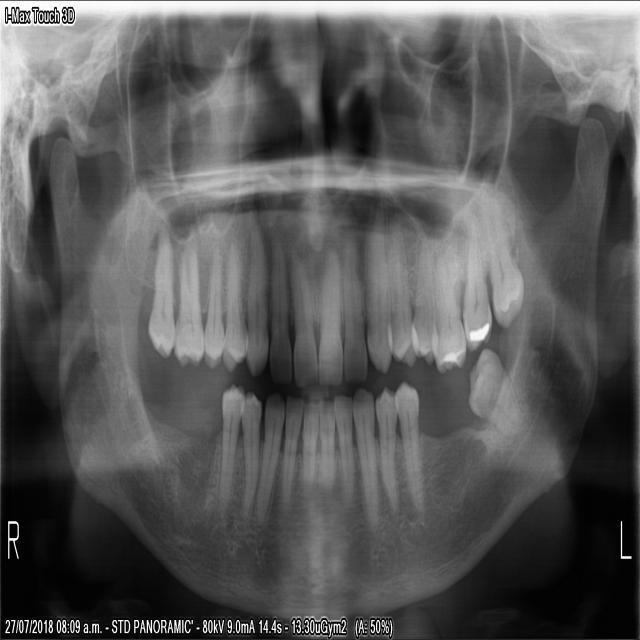LCD: (351, 382, 378, 537)
LCU: (358, 192, 396, 378)
LID: (332, 390, 354, 512), (315, 395, 335, 515)
LIU: (340, 225, 367, 385), (315, 235, 342, 388)
LMD: (465, 342, 527, 446)
LMU: (427, 225, 466, 379), (482, 200, 525, 330), (456, 214, 494, 357)
LPMD: (390, 372, 426, 520), (372, 378, 399, 517)
LPMU: (383, 199, 420, 370), (408, 223, 439, 369)
RCD: (253, 387, 285, 530)
RCU: (243, 206, 268, 378)
RID: (277, 390, 302, 512), (300, 395, 319, 502)
RIU: (287, 235, 317, 394), (266, 229, 291, 386)
RMU: (169, 228, 204, 370), (145, 209, 175, 362)
RPMD: (214, 377, 246, 523), (235, 385, 261, 519)
RPMU: (219, 218, 248, 375), (200, 227, 225, 371)
